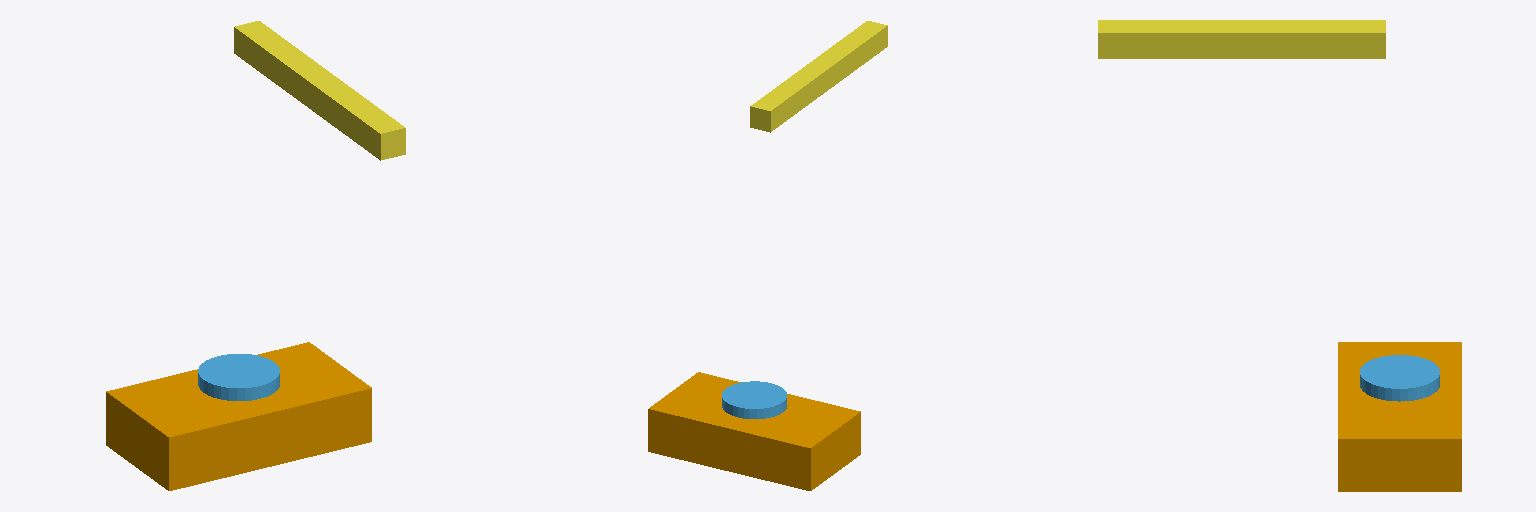
robot.urdf — stick_rm:
<?xml version="1.0"?>
<robot name="stick_rm">

  <!-- ================= LINKS ================= -->

  <link name="body_link">
    <inertial>
      <mass value="2.0"/>
      <origin xyz="0 0 0"/>
      <inertia ixx="0.02" ixy="0" ixz="0" iyy="0.02" iyz="0" izz="0.02"/>
    </inertial>
    <collision>
      <geometry>
        <mesh filename="package://stick_rm_description/meshes/stl/Cube.017.stl"/>
      </geometry>
    </collision>
    <visual>
      <geometry>
        <mesh filename="package://stick_rm_description/meshes/stl/Cube.010.stl"/>
      </geometry>
    </visual>
  </link>

  <link name="swivel_link">
    <inertial>
      <mass value="1.0"/>
      <origin xyz="0 0 0"/>
      <inertia ixx="0.01" ixy="0" ixz="0" iyy="0.01" iyz="0" izz="0.01"/>
    </inertial>
    <collision>
      <geometry>
        <mesh filename="package://stick_rm_description/meshes/stl/Circle.002.stl" scale="0.12364 0.12364 0.12364"/>
      </geometry>
    </collision>
    <visual>
      <geometry>
        <mesh filename="package://stick_rm_description/meshes/stl/Circle.001.stl" scale="0.12364 0.12364 0.12364"/>
      </geometry>
    </visual>
  </link>

  <link name="link1_link">
    <inertial>
      <mass value="1.0"/>
      <origin xyz="0 0 0"/>
      <inertia ixx="0.01" ixy="0" ixz="0" iyy="0.01" iyz="0" izz="0.01"/>
    </inertial>
    <collision>
      <geometry>
        <mesh filename="package://stick_rm_description/meshes/stl/Cube.016.stl"/>
      </geometry>
    </collision>
    <visual>
      <geometry>
        <mesh filename="package://stick_rm_description/meshes/stl/Cube.003.stl"/>
      </geometry>
    </visual>
  </link>

  <link name="link2_link">
    <inertial>
      <mass value="0.8"/>
      <origin xyz="0 0 0"/>
      <inertia ixx="0.008" ixy="0" ixz="0" iyy="0.008" iyz="0" izz="0.008"/>
    </inertial>
    <collision>
      <geometry>
        <mesh filename="package://stick_rm_description/meshes/stl/Cube.015.stl"/>
      </geometry>
    </collision>
    <visual>
      <geometry>
        <mesh filename="package://stick_rm_description/meshes/stl/Cube.004.stl"/>
      </geometry>
    </visual>
  </link>

  <!-- ================= JOINTS ================= -->

  <joint name="swivel_link_joint" type="revolute">
    <origin xyz="0 0 0.1244" rpy="0 0 0"/>
    <parent link="body_link"/>
    <child link="swivel_link"/>
    <axis xyz="0 0 1"/>
    <limit lower="-1.57" upper="1.57" effort="10" velocity="1.0"/>
  </joint>

  <joint name="link1_link_joint" type="revolute">
    <origin xyz="0 0 0.02551" rpy="0 0 0"/>
    <parent link="swivel_link"/>
    <child link="link1_link"/>
    <axis xyz="1 0 0"/>
    <limit lower="-0.5" upper="1.2" effort="10" velocity="1.0"/>
  </joint>

  <joint name="link2_link_joint" type="revolute">
    <origin xyz="0 -0.025 0.6" rpy="0 0 0"/>
    <parent link="link1_link"/>
    <child link="link2_link"/>
    <axis xyz="1 0 0"/>
    <limit lower="-1.5" upper="1.1" effort="10" velocity="1.0"/>
  </joint>

</robot>

--- What the picture shows (computed from the rendered views, not written in the file) ---
The picture shows the robot from 3 angles, left to right: view 1: azimuth 30°, elevation 25°; view 2: azimuth 150°, elevation 25°; view 3: azimuth 270°, elevation 25°; orthographic projection.
Model stick_rm with 4 links and 3 joints (3 revolute), rooted at body_link, posed all joints at 0.
Links seen in each view (by area): view 1: body_link, link2_link, swivel_link; view 2: body_link, link2_link, swivel_link; view 3: body_link, link2_link, swivel_link.
Link boxes in pixels (box(x1,y1,x2,y2)): body_link: box(106, 342, 371, 490); link2_link: box(234, 21, 405, 160); swivel_link: box(198, 354, 279, 400); body_link: box(648, 372, 860, 490); link2_link: box(750, 21, 887, 132); swivel_link: box(722, 381, 786, 418); body_link: box(1338, 342, 1461, 491); link2_link: box(1098, 20, 1385, 58); swivel_link: box(1360, 355, 1439, 401).
Bounding box of the posed robot: 0.4 × 0.6324 × 0.7999 m (x, y, z).
3 mesh visuals loaded from 4 distinct referenced files (3 binary STL); not drawn: 1 (reference not matched to a file when rendering).